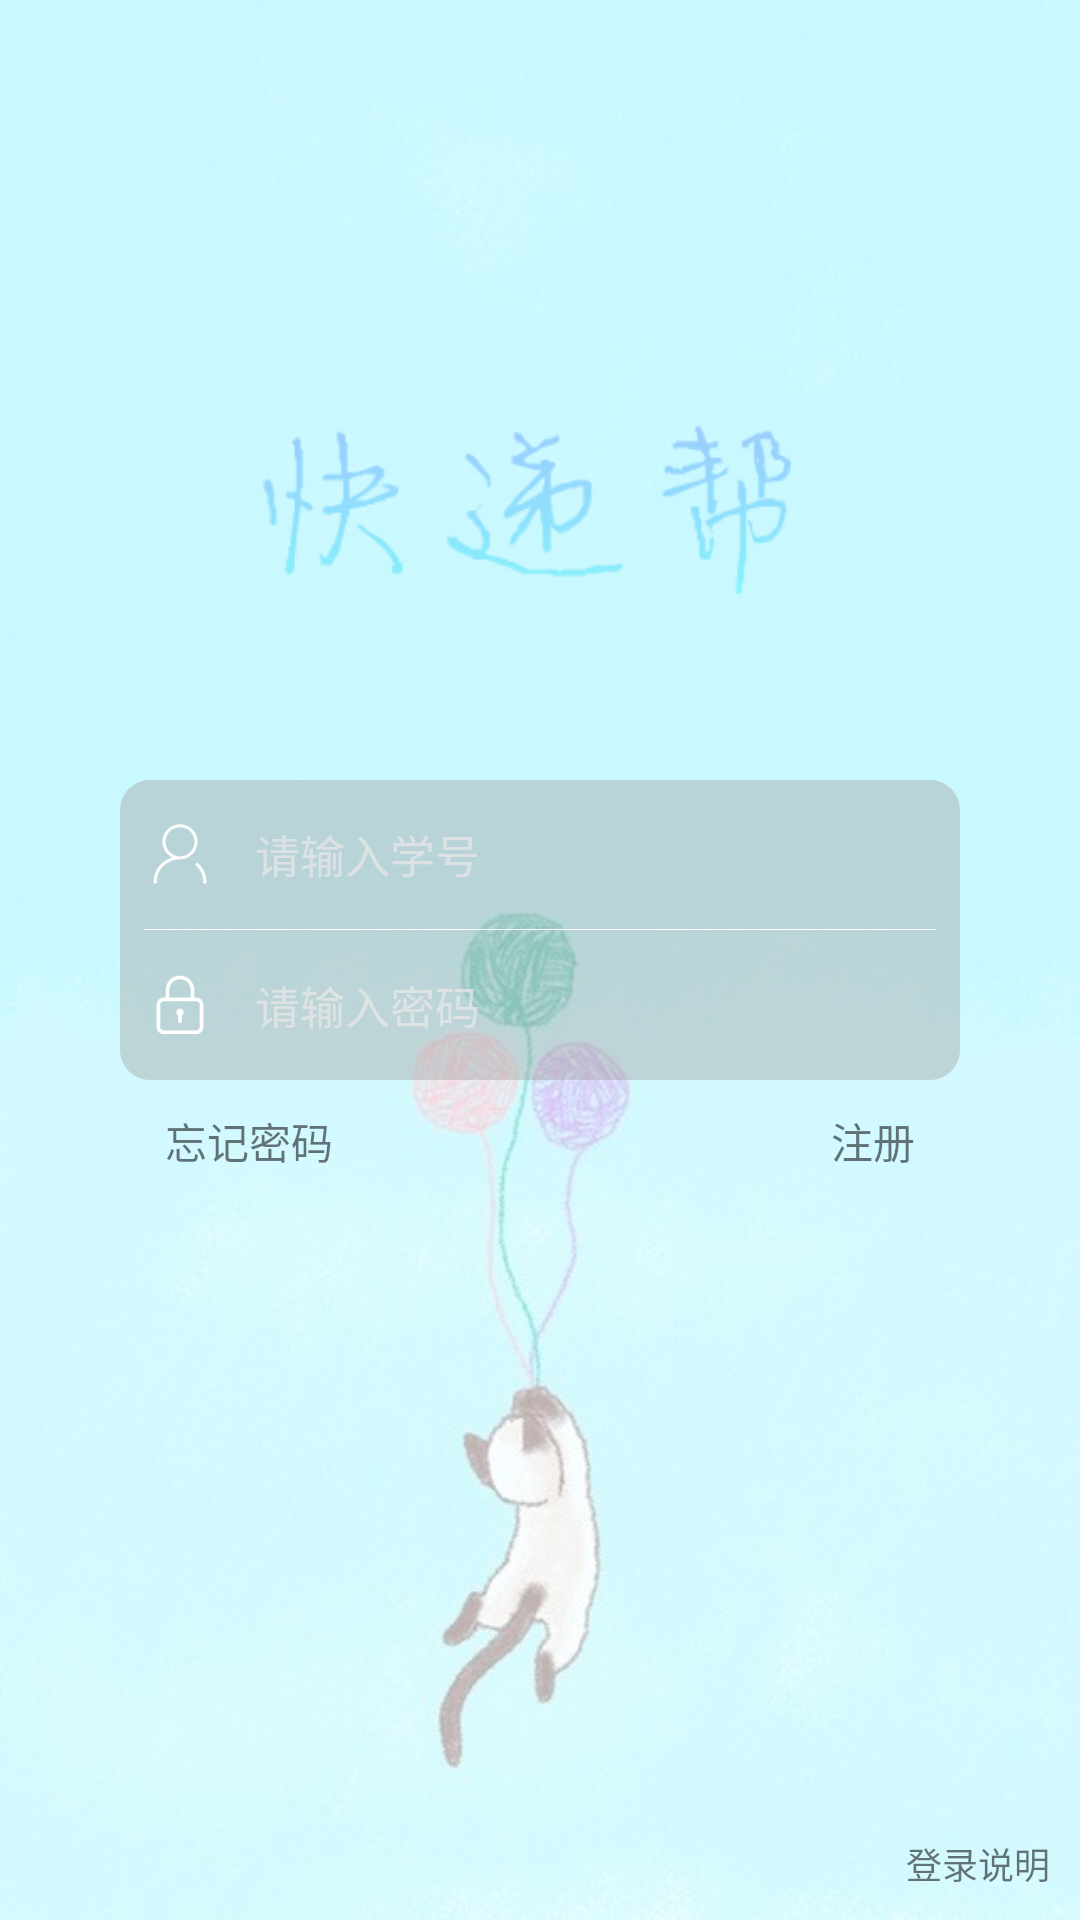

Icon bounding boxes for this 1080*1920 phone screenshot, format (x1=x1, y1=y1, x2=x2, y2=y2):
account: (x1=153, y1=824, x2=207, y2=884)
password login: (x1=156, y1=976, x2=204, y2=1034)
